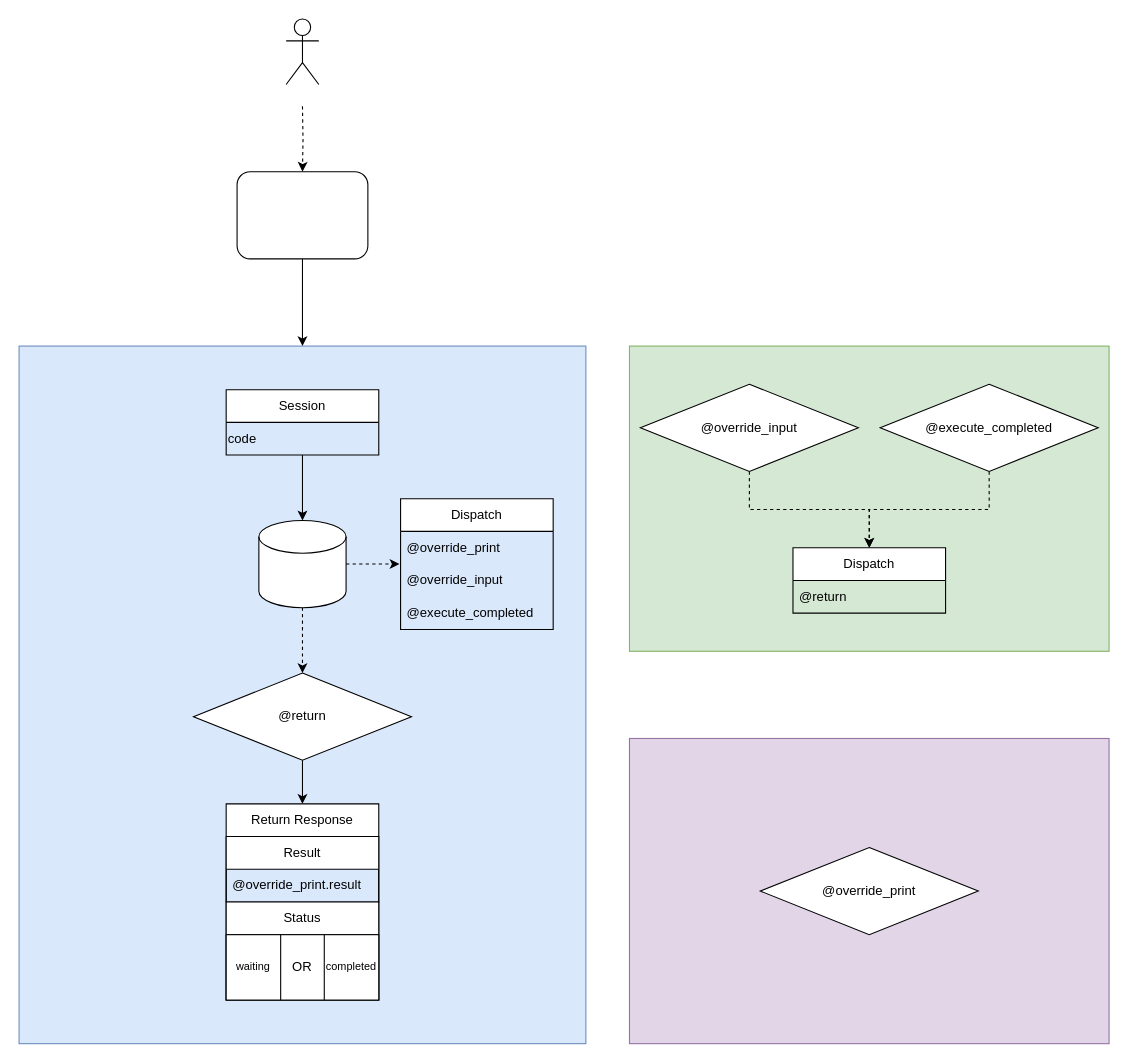
This 1128x1063 diagram has some shape labels left out. The centre of each missing label's shape, as x and y in pixels:
"/execute" goes at point (302, 215).
"Interpreter" goes at point (302, 563).
"User" goes at point (302, 51).
